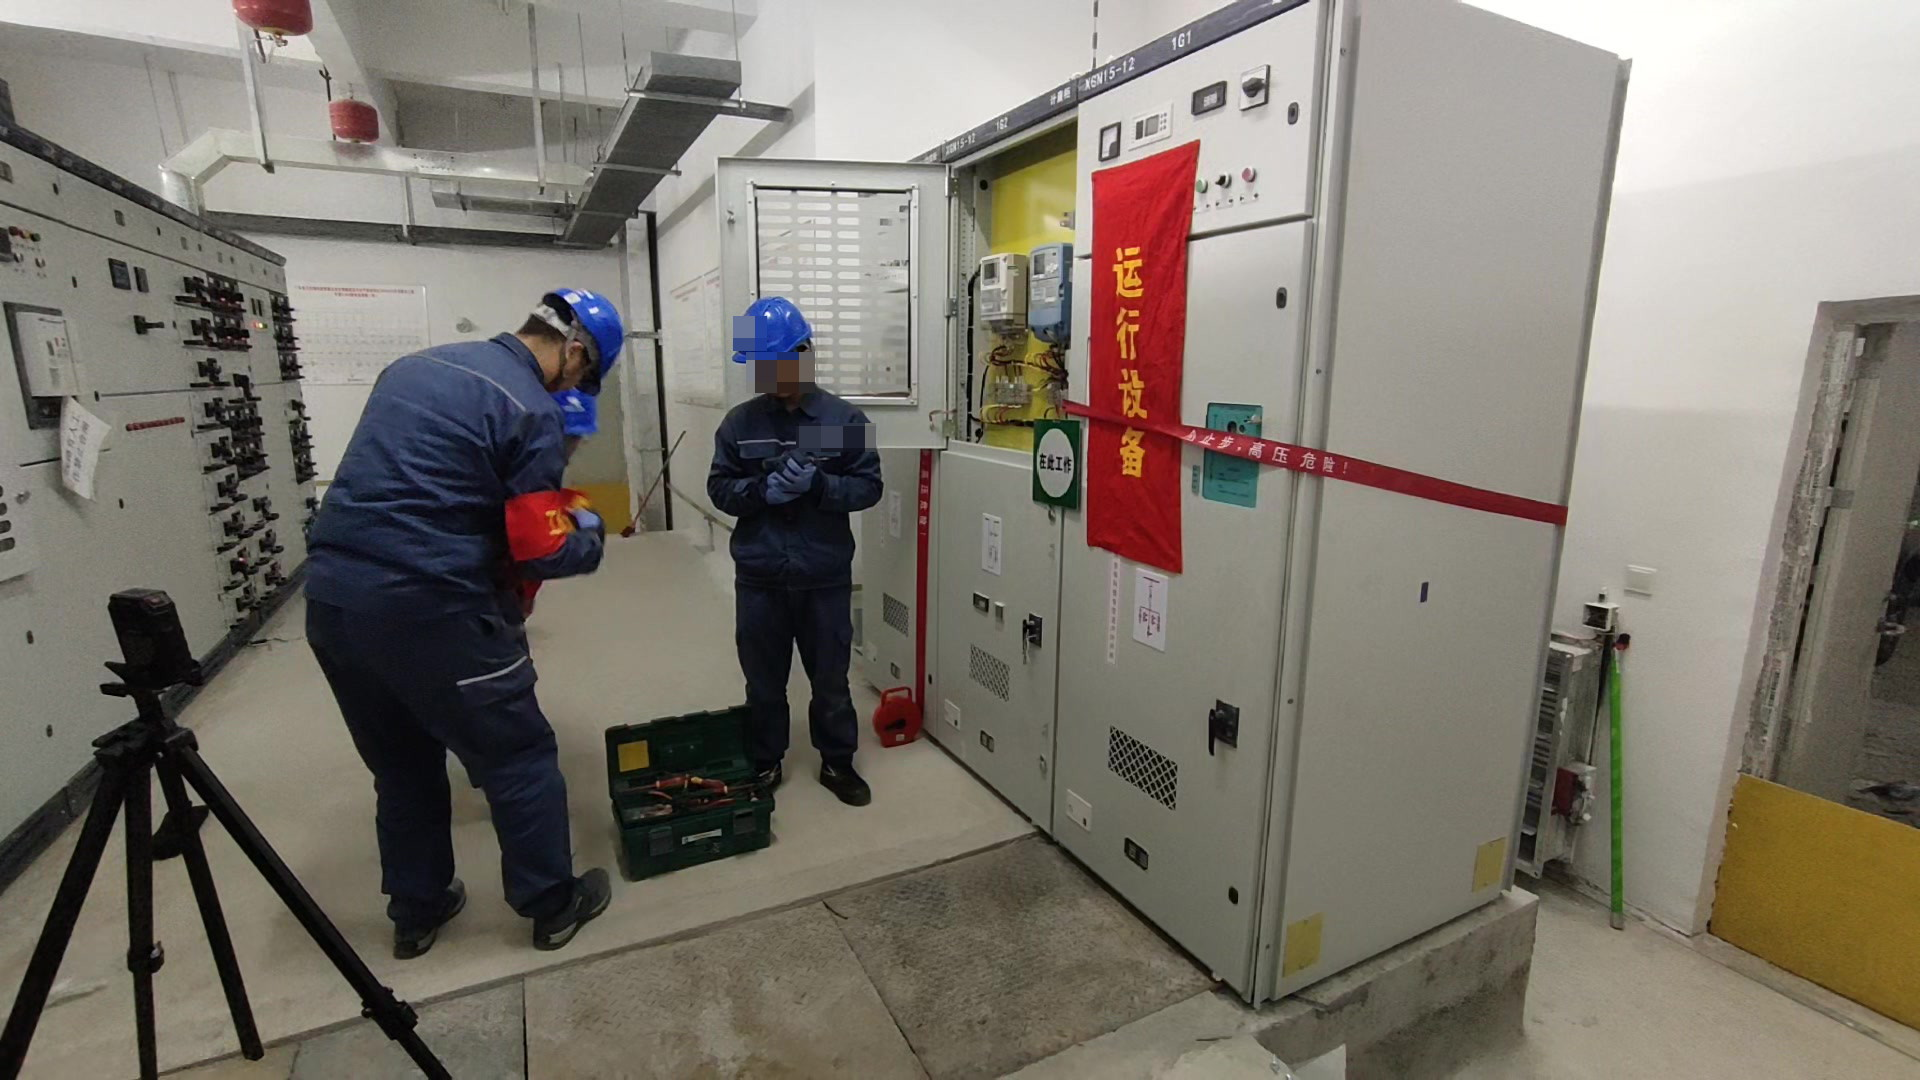badge: (502, 484, 574, 560)
downsuit: (303, 590, 576, 903), (731, 590, 863, 770)
glove: (765, 453, 827, 513)
halt: (524, 288, 628, 398), (734, 295, 821, 399)
inear: (554, 315, 589, 388)
person: (304, 275, 632, 952), (707, 294, 884, 805)
upsuit: (308, 331, 607, 575), (707, 386, 886, 573)
